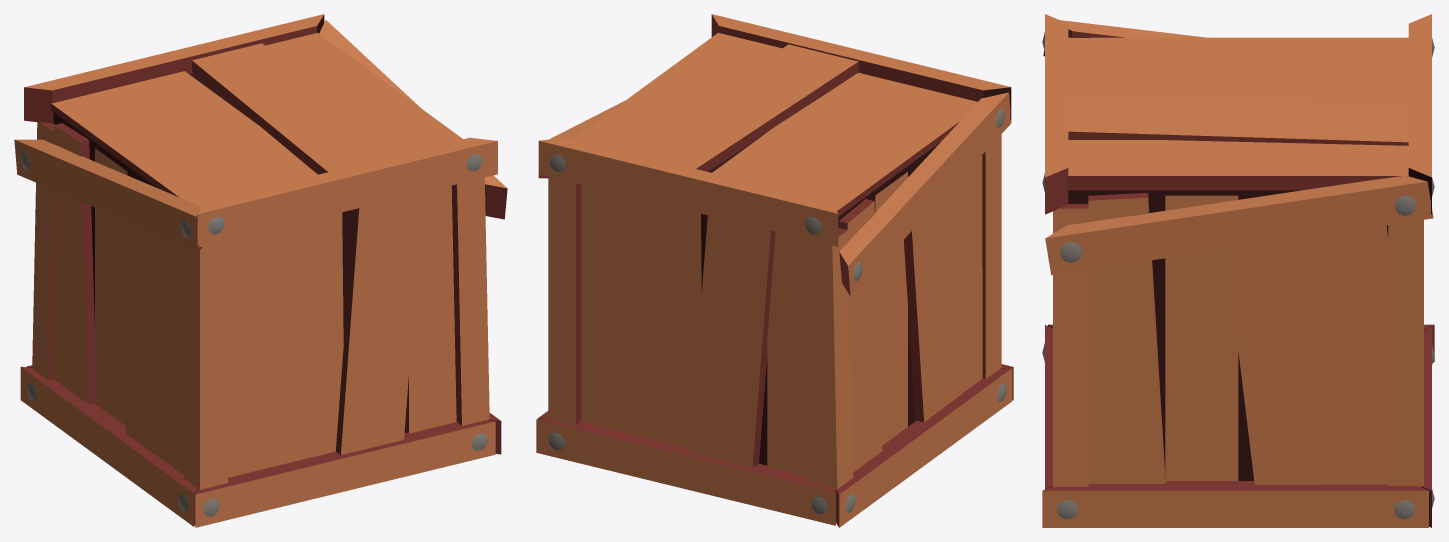
Rendered from Caisse.fbx.
The picture shows the model from 3 angles, left to right: view 1: azimuth 30°, elevation 25°; view 2: azimuth 150°, elevation 25°; view 3: azimuth 270°, elevation 25°; orthographic projection. The views are drawn at different scales.
Visible parts, largest first — view 1: Crate01; view 2: Crate01; view 3: Crate01.
Boxes of the visible parts, x1,y1,x2,y2 form: Crate01: (14,14,507,527); Crate01: (536,14,1013,527); Crate01: (1042,14,1434,527).
Bounding box in the file's own units: 311 × 287 × 293.
